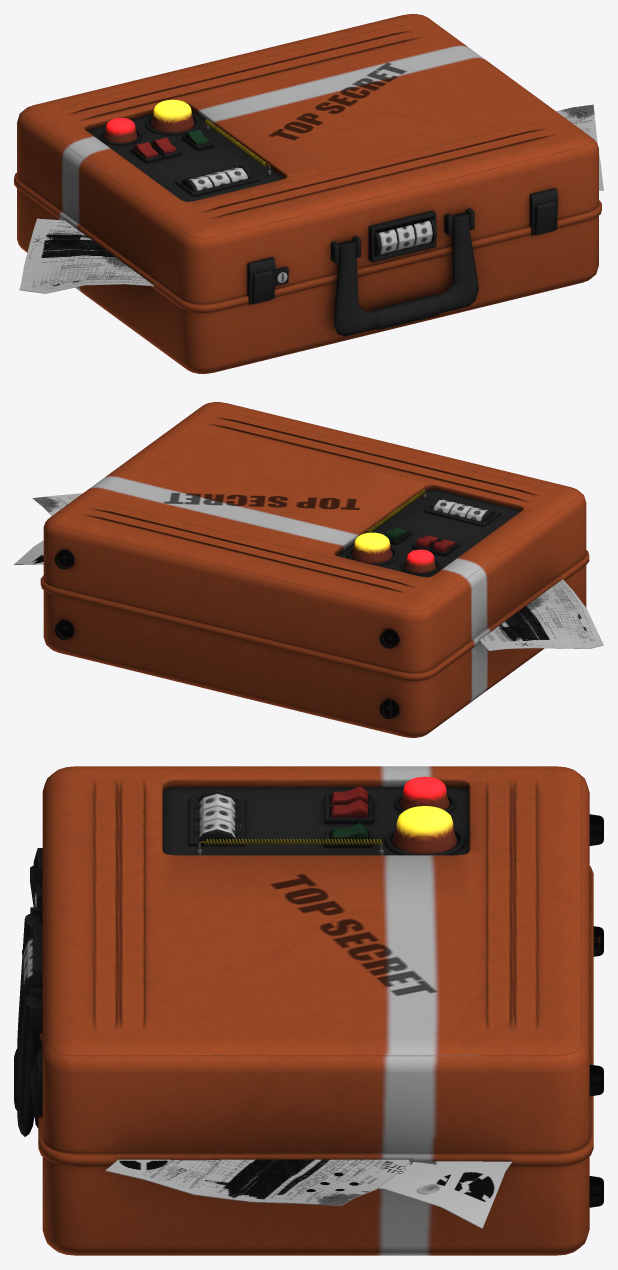
The model's file is intelligence_briefcase.glb.
3 renders of one model, top to bottom at view 1: azimuth 30°, elevation 25°; view 2: azimuth 150°, elevation 25°; view 3: azimuth 270°, elevation 25°, orthographic. The views are drawn at different scales.
Visible parts, largest first — view 1: Intelligence; view 2: Intelligence; view 3: Intelligence.
Boxes of the visible parts, x1,y1,x2,y2 form: Intelligence: (14,14,603,373); Intelligence: (14,402,603,737); Intelligence: (14,766,603,1255).
Bounding box in the file's own units: 85.33 × 21.95 × 49.88.
2 materials, 2 textured.
